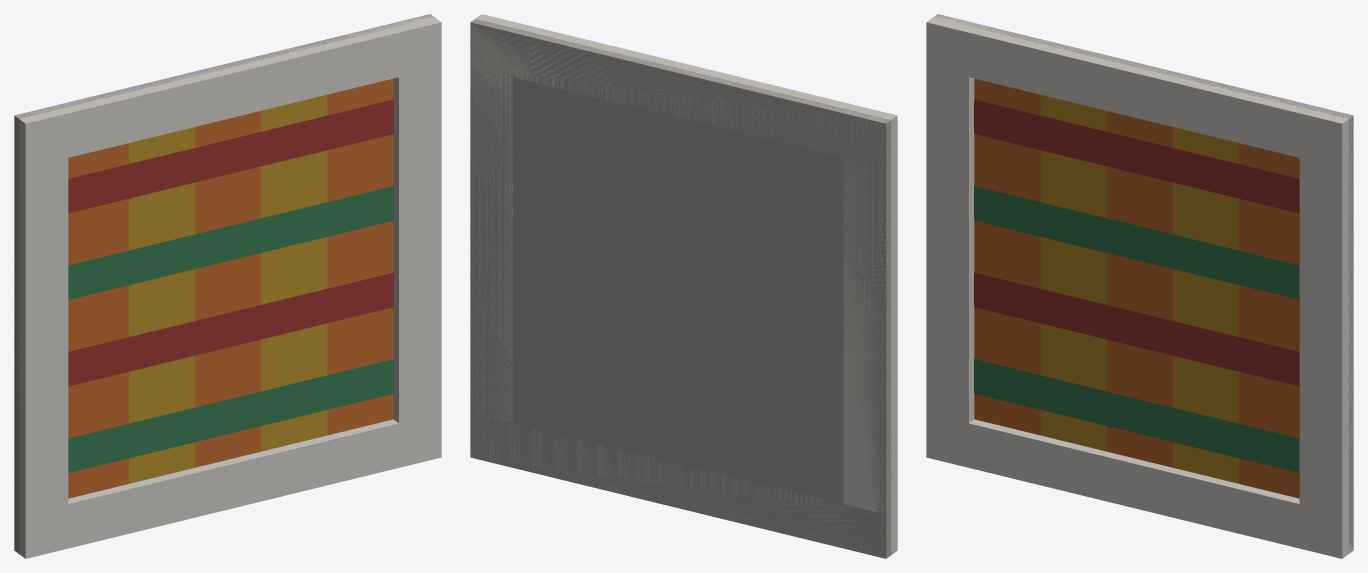
File: picture-frame-01.glb
3 renders of one model, left to right at view 1: azimuth 30°, elevation 25°; view 2: azimuth 150°, elevation 25°; view 3: azimuth 330°, elevation 25°, orthographic.
Parts seen in each view (by area): view 1: picture_frame_01; view 2: picture_frame_01; view 3: picture_frame_01.
Part boxes in pixels (<box>): picture_frame_01: <box>14,14,441,558</box>; picture_frame_01: <box>470,14,897,558</box>; picture_frame_01: <box>926,14,1353,558</box>.
Bounding box in the file's own units: 0.575 × 0.575 × 0.0272.
